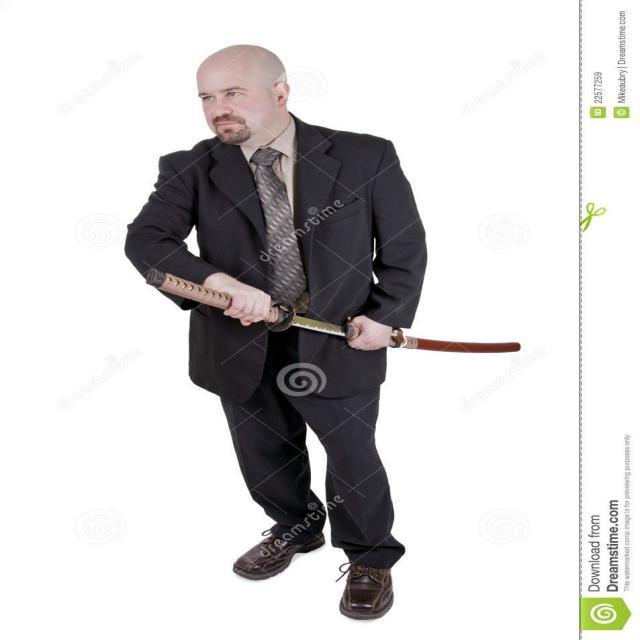long sword: (144, 264, 528, 360)
